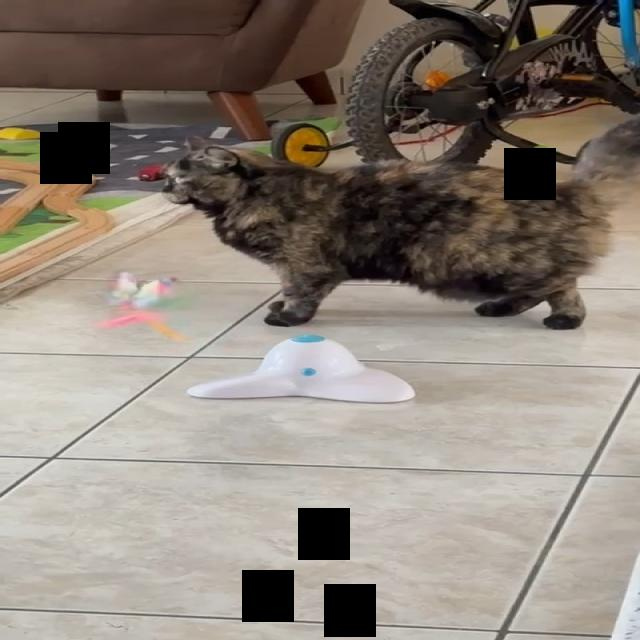authorized: (156, 116, 637, 330)
